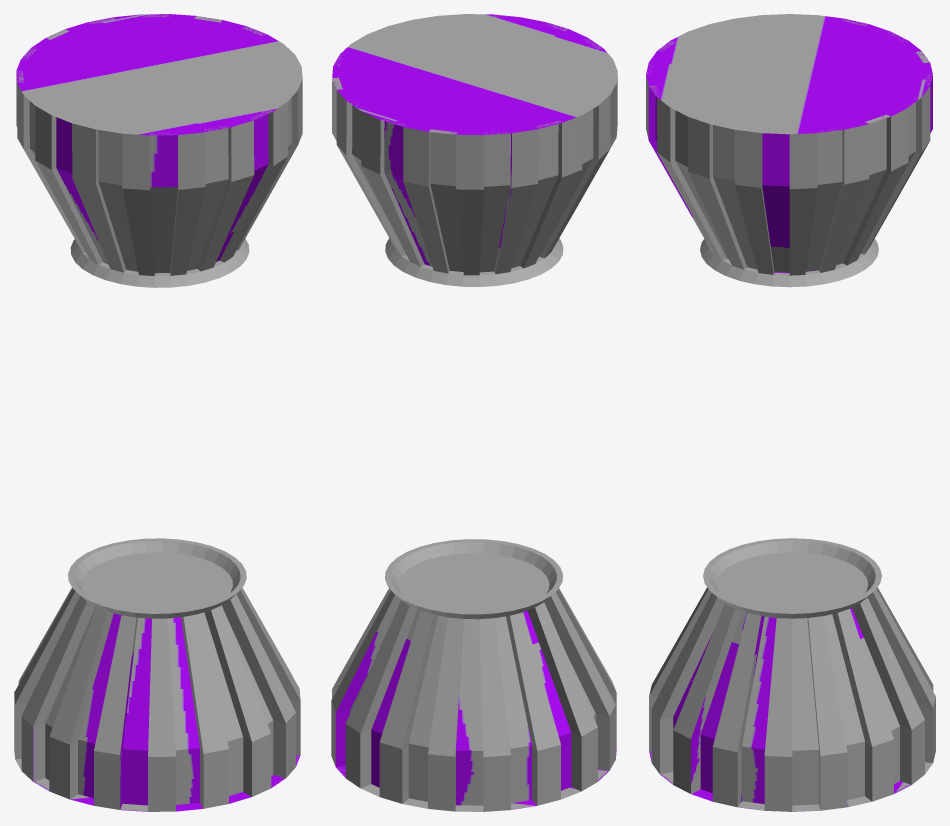
File: center_platform_turbines.fbx
3 renders of one model, left to right at view 1: azimuth 30°, elevation 25°; view 2: azimuth 150°, elevation 25°; view 3: azimuth 270°, elevation 25°, orthographic.
Visible parts, largest first — view 1: generator.001, generator; view 2: generator.001, generator; view 3: generator, generator.001.
Part boxes in pixels (left/top/right/bottom): generator.001: left=16, top=14, right=302, bottom=287; generator: left=14, top=538, right=300, bottom=811; generator.001: left=332, top=14, right=617, bottom=286; generator: left=331, top=539, right=616, bottom=811; generator: left=649, top=538, right=935, bottom=811; generator.001: left=646, top=14, right=932, bottom=287.
Bounding box in the file's own units: 166 × 433 × 168.
Materials: 2 (2 with a texture image).
